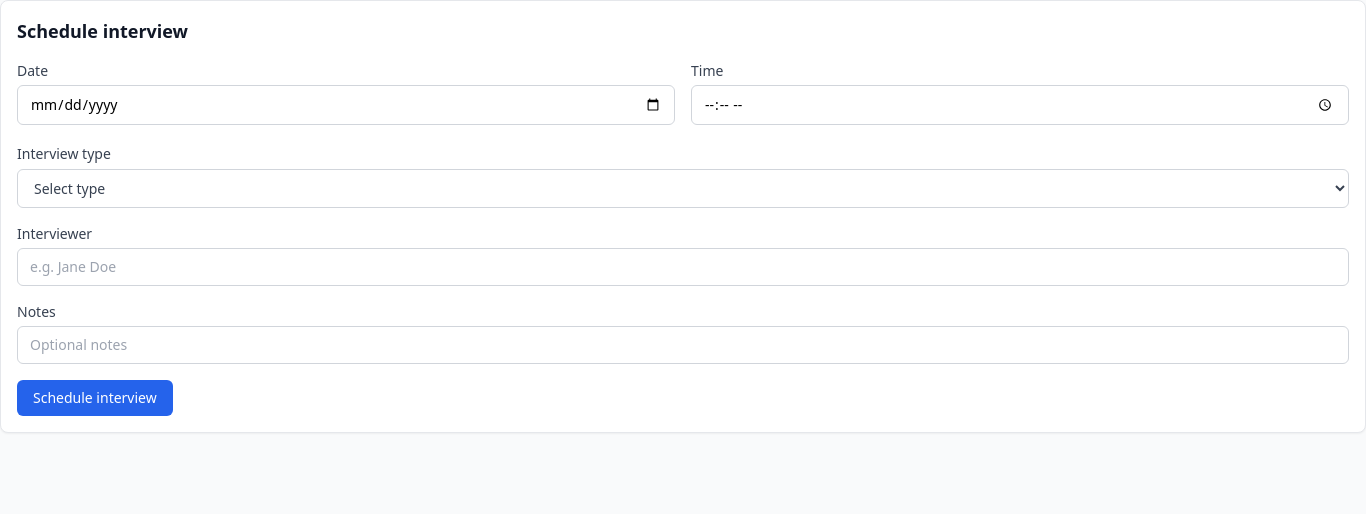
Scenario: ScheduleInterviewForm › shows validation errors for empty fields
Click the button "Schedule interview".
click(95, 398)  # box [17, 380, 173, 416]
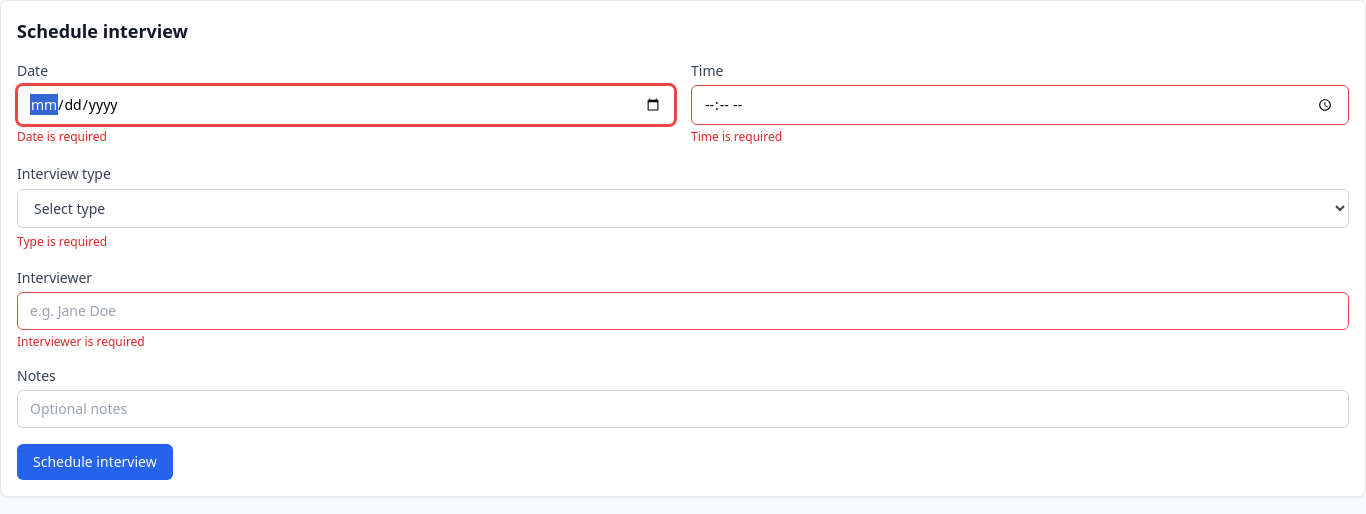
Check: the text "Date is required" is shown, box [17, 128, 107, 145]
Check: the text "Time is required" is shown, box [691, 128, 782, 145]
Check: the text "Type is required" is shown, box [17, 233, 107, 250]
